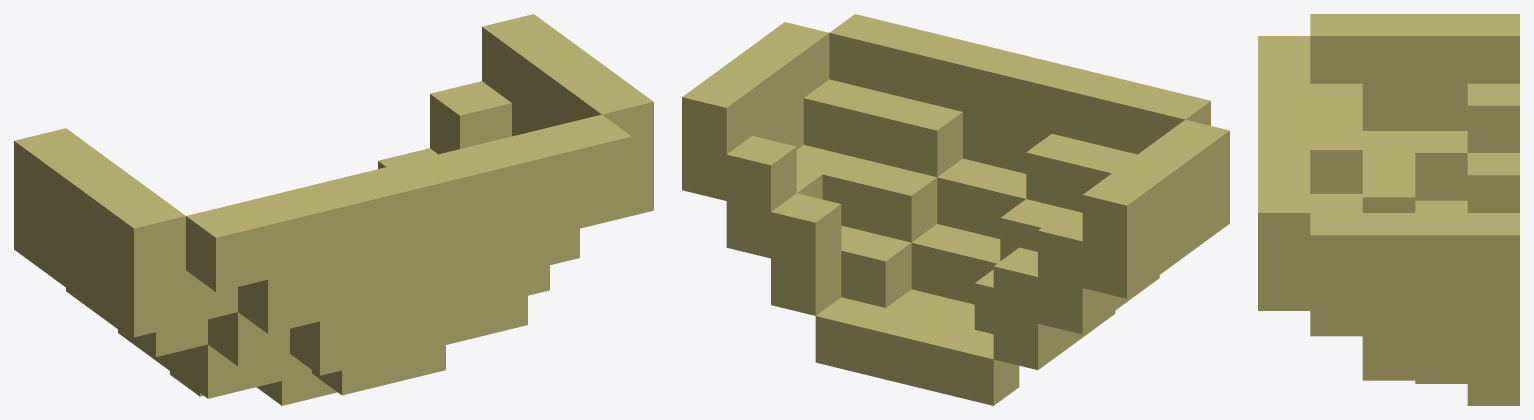
Rendered from torch.obj.
3 views of the same model, side by side, from view 1: azimuth 30°, elevation 25°; view 2: azimuth 150°, elevation 25°; view 3: azimuth 270°, elevation 25° (orthographic). The views are drawn at different scales.
Size of the model in its own units: 1 by 0.5 by 0.5.
Materials: 1 (1 with a texture image).
